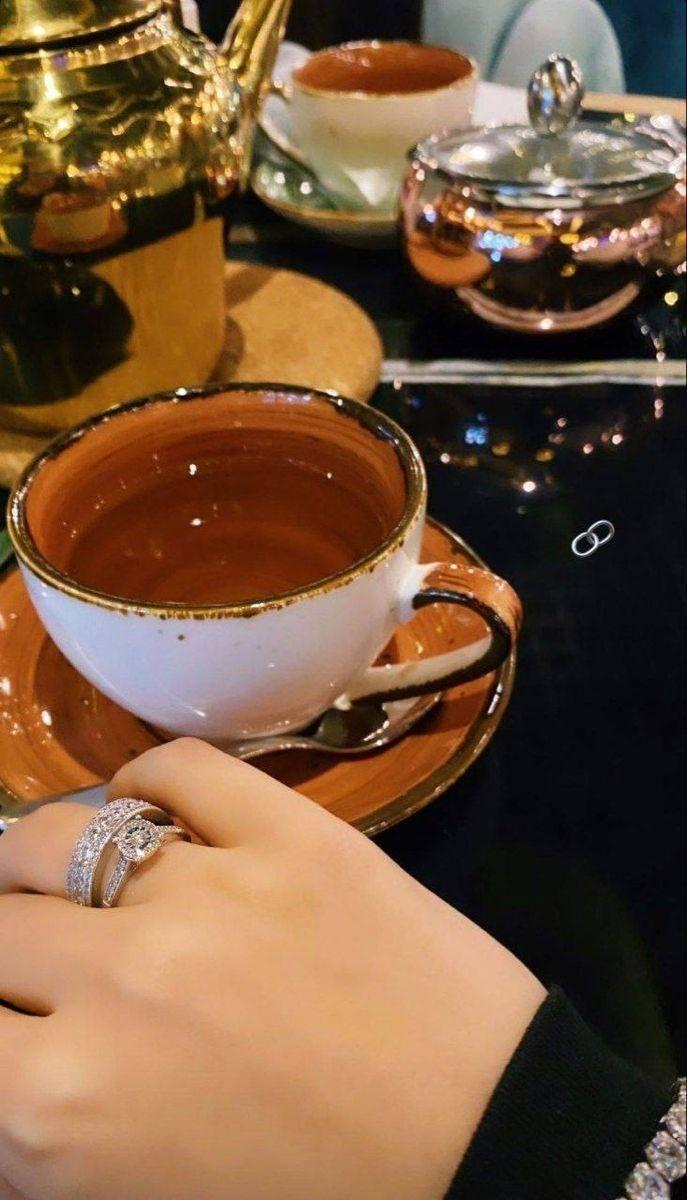cup-handle: (5, 379, 523, 750), (256, 40, 483, 219)
